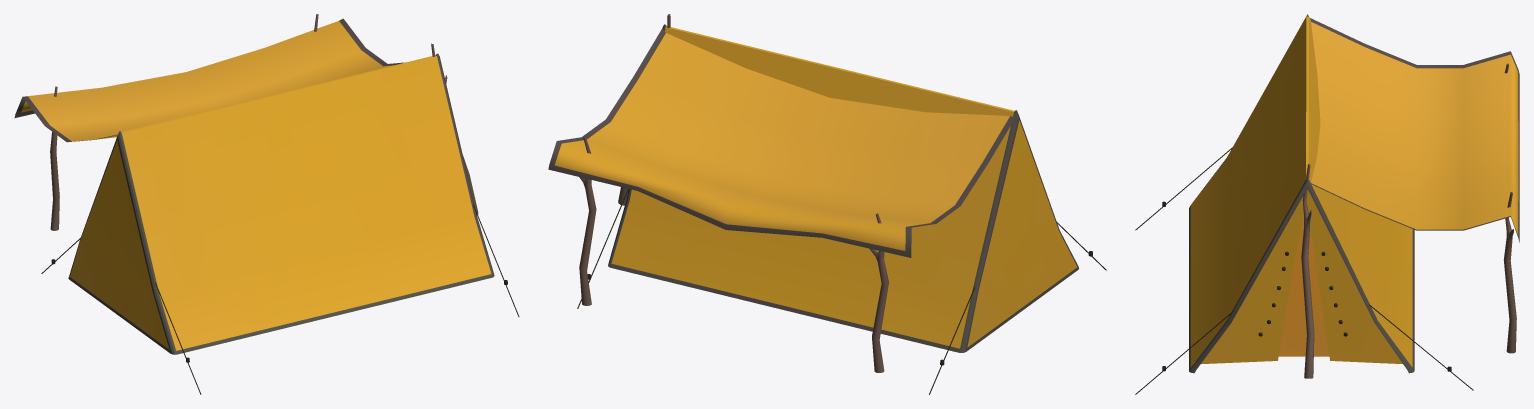
File: Tent.fbx
The picture shows the model from 3 angles, left to right: view 1: azimuth 30°, elevation 25°; view 2: azimuth 150°, elevation 25°; view 3: azimuth 270°, elevation 25°; orthographic projection. The views are drawn at different scales.
Visible parts, largest first — view 1: pCylinder28; view 2: pCylinder28; view 3: pCylinder28.
Part boxes in pixels (x1,y1,x2,y2): pCylinder28: [14, 14, 519, 394]; pCylinder28: [548, 14, 1106, 394]; pCylinder28: [1135, 14, 1519, 394].
Bounding box in the file's own units: 12.57 × 7.1 × 10.86.
